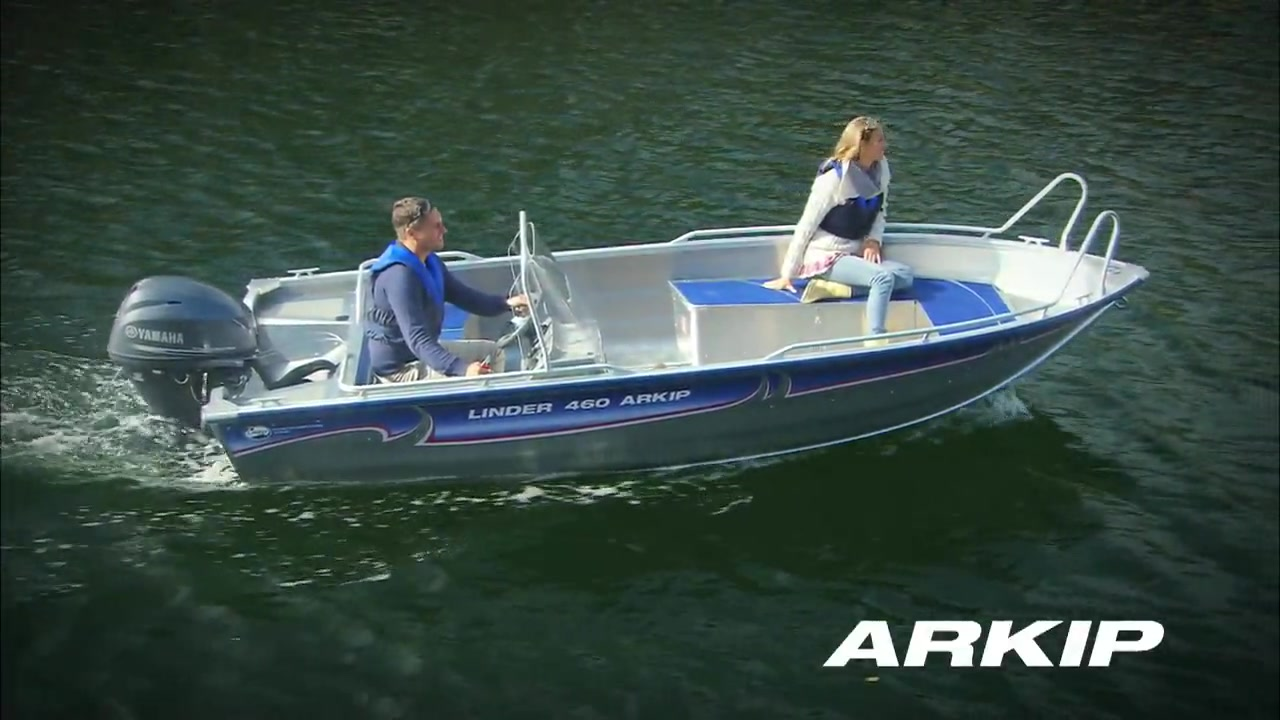boat: (103, 171, 1153, 496)
